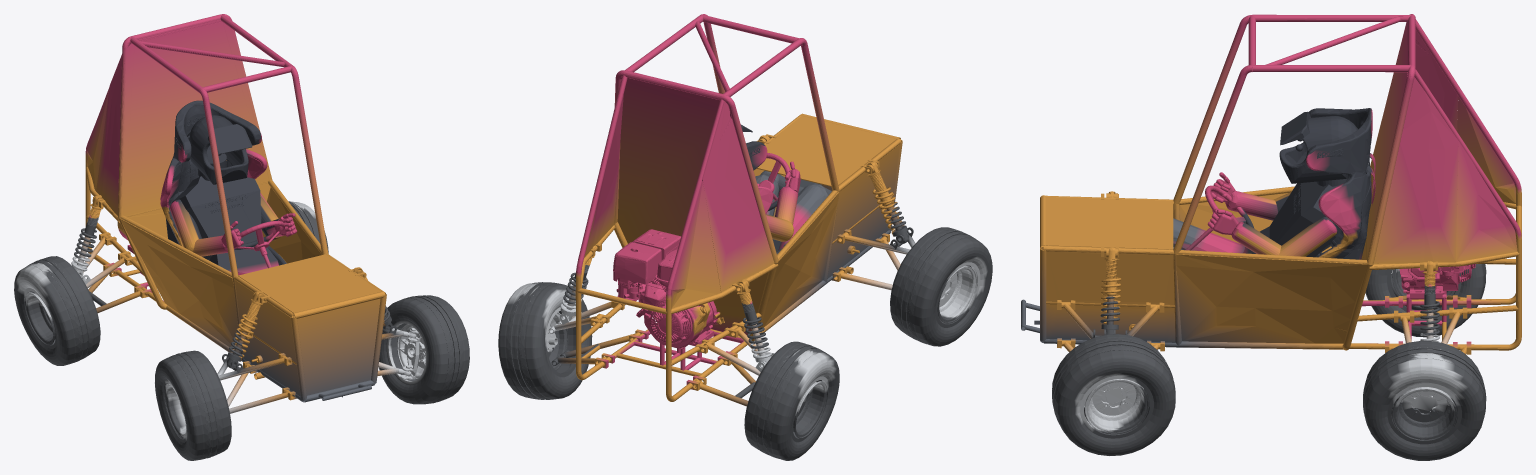
3 views of the same model, side by side, from view 1: azimuth 30°, elevation 25°; view 2: azimuth 150°, elevation 25°; view 3: azimuth 270°, elevation 25° (orthographic). The views are drawn at different scales.
Parts seen in each view (by area): view 1: test_solid.stl; view 2: test_solid.stl; view 3: test_solid.stl.
Part boxes in pixels (x1,y1,x2,y2): test_solid.stl: (14, 14, 469, 460); test_solid.stl: (498, 14, 992, 460); test_solid.stl: (1021, 14, 1521, 460).
Size of the model in its own units: 2.6 by 2.73 by 3.5.
